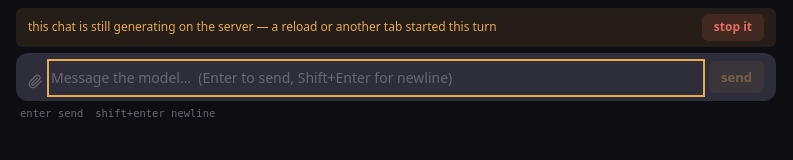
Test case: the composer's remote stop control › offers a stop for a remotely-owned turn, and records the request
Click the button with aria-label "stop the remote turn" at (733, 27), box top-left (702, 14), bottom-right (764, 41)
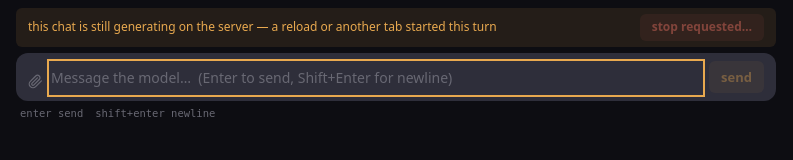
Check: the text "stop requested…" is shown, box top-left (640, 14), bottom-right (764, 41)
